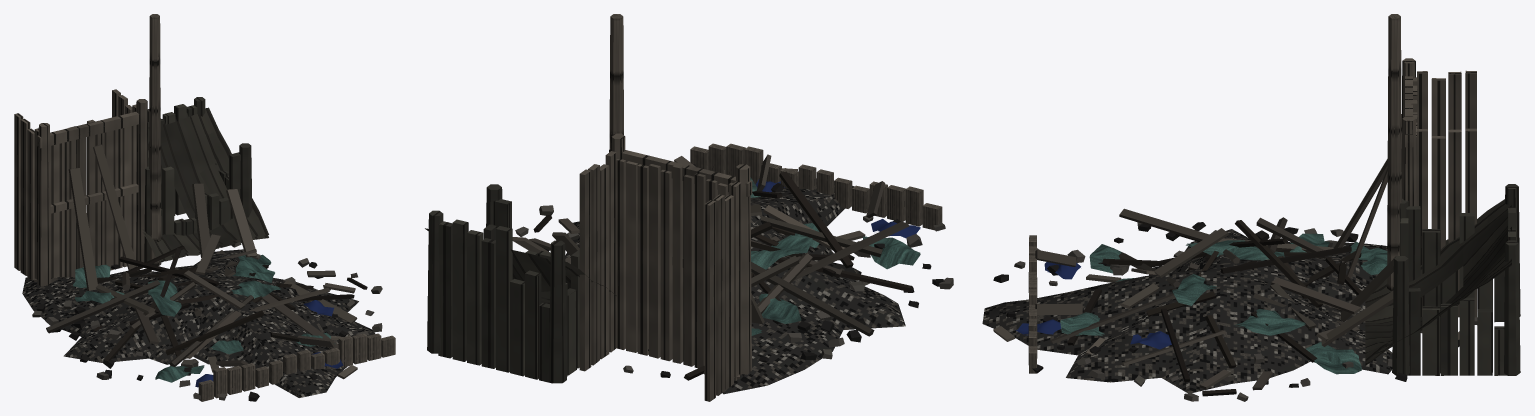
File: TarHut01a.glb
3 renders of one model, left to right at view 1: azimuth 30°, elevation 25°; view 2: azimuth 150°, elevation 25°; view 3: azimuth 270°, elevation 25°, orthographic. The views are drawn at different scales.
Visible parts, largest first — view 1: TarHut01a; view 2: TarHut01a; view 3: TarHut01a.
Boxes of the visible parts, x1,y1,x2,y2 form: TarHut01a: (14, 14, 395, 401); TarHut01a: (425, 14, 953, 401); TarHut01a: (982, 14, 1520, 401).
Size of the model in its own units: 6.53 by 5.21 by 8.26.
Materials: 27 (5 with a texture image).
